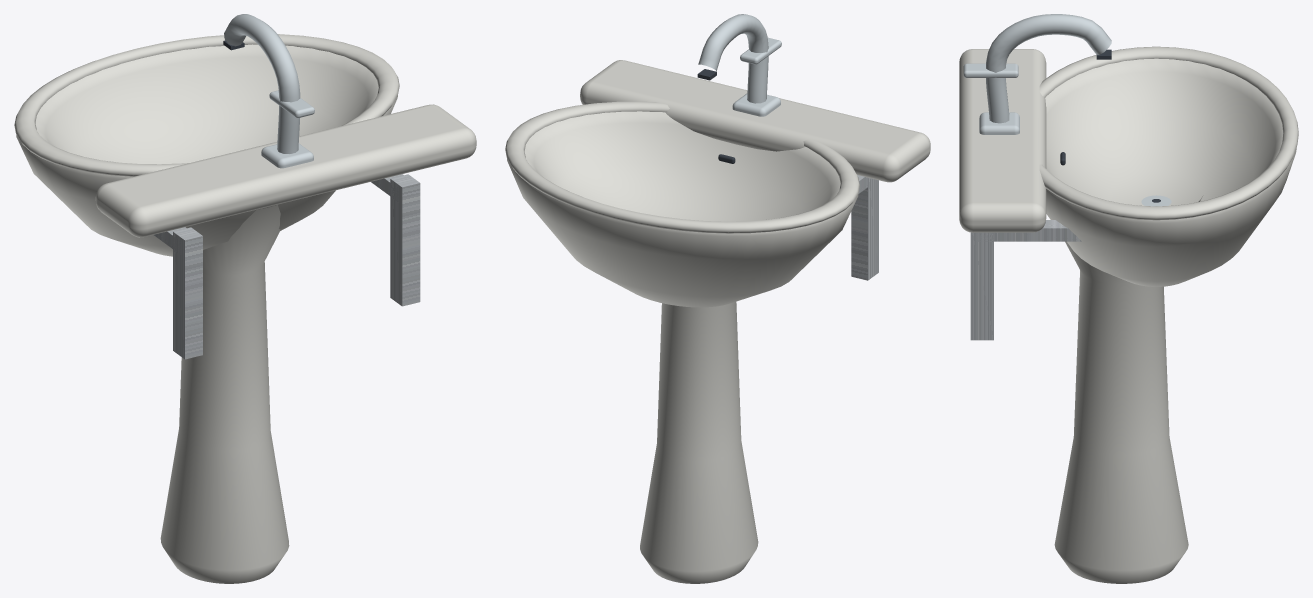
File: sink.glb
The picture shows the model from 3 angles, left to right: view 1: azimuth 30°, elevation 25°; view 2: azimuth 150°, elevation 25°; view 3: azimuth 270°, elevation 25°; orthographic projection. The views are drawn at different scales.
Parts seen in each view (by area): view 1: Sink; view 2: Sink; view 3: Sink.
Boxes of the visible parts, left/top/right/bottom form: Sink: left=14, top=14, right=476, bottom=583; Sink: left=505, top=14, right=930, bottom=583; Sink: left=959, top=14, right=1298, bottom=583.
Size of the model in its own units: 0.6891 by 1.04 by 0.5853.
Materials: 4 (1 with a texture image).
